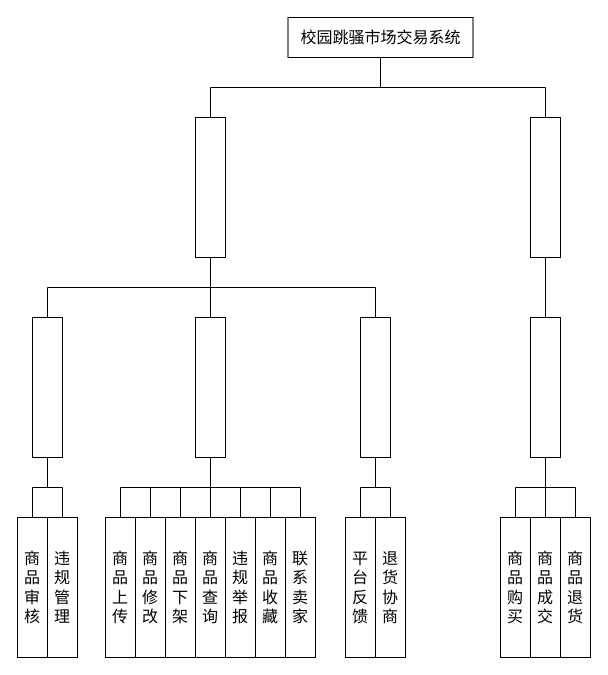
This 608x675 diagram has some shape labels left out. The centre of each missing label's shape, as x and y in pixels:
"人员模块" belongs at (x=210, y=187).
"商品交易模块" belongs at (x=545, y=387).
"商品模块" belongs at (x=545, y=187).
"审核员模块" belongs at (x=47, y=387).
"客服模块" belongs at (x=375, y=387).
"用户模块" belongs at (x=210, y=387).
